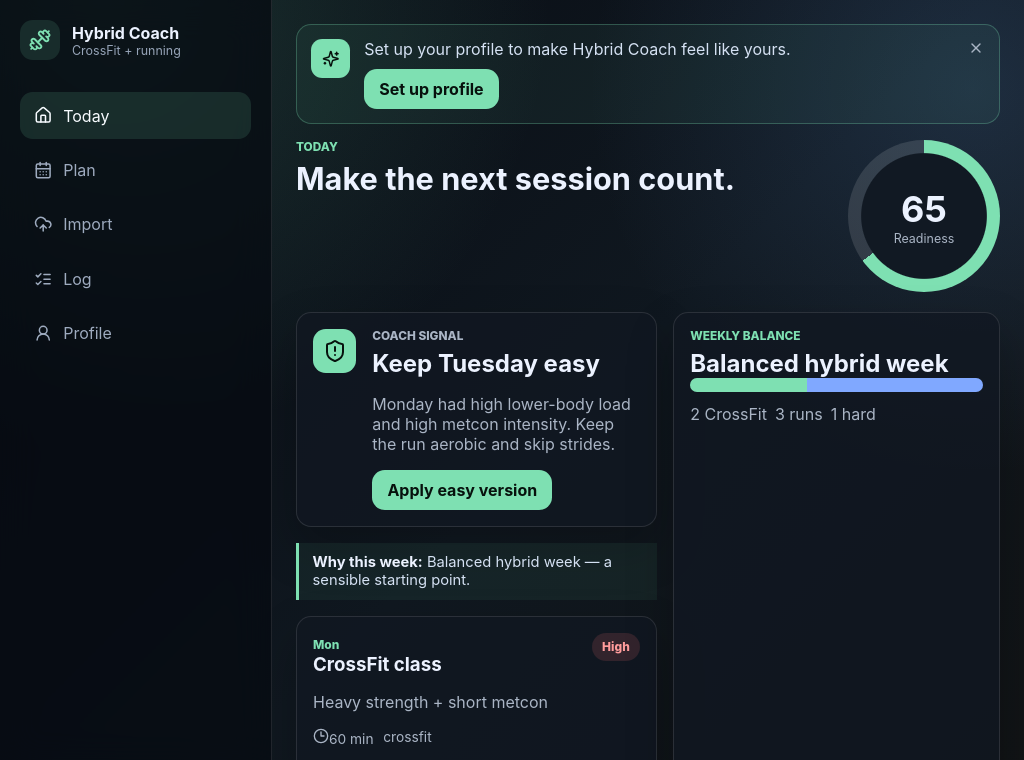
Test: App › navigates to the import review screen
Click the button "Import".
click(136, 224)  # box [20,201,251,248]
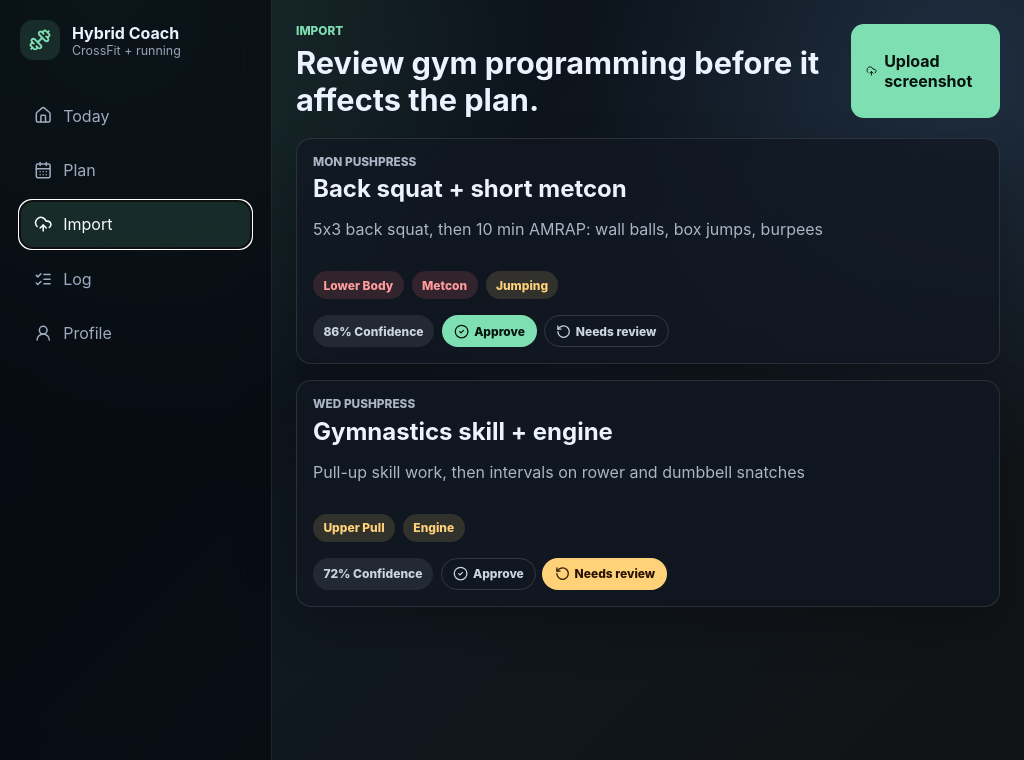
Expected: the heading "Review gym programming before it affects the plan." is shown, [296,44,835,118]
Expected: the heading "Back squat + short metcon" is shown, [313,174,627,203]
